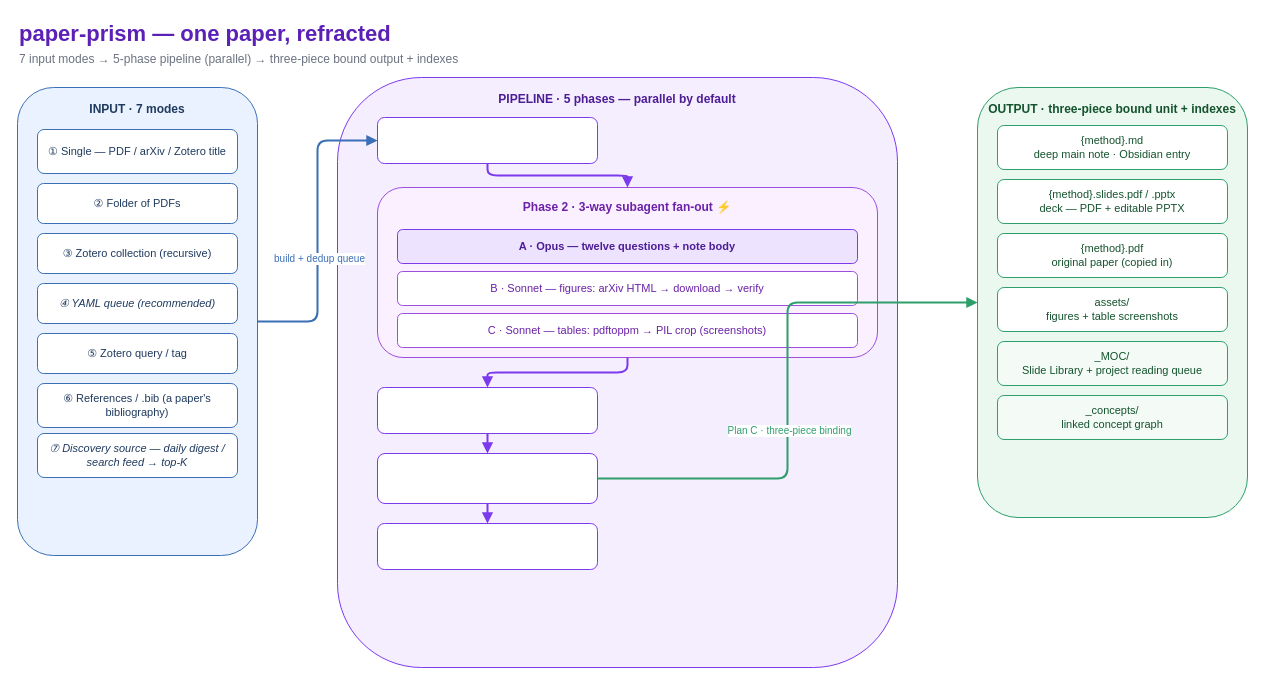
Image size: 1265x685. Some labels were removed from this diagram. The centre of each missing label's shape, as x and y in pixels:
"1 · Setup method · arxiv_id · paths · mkdir" goes at [487,140].
"3 · Synthesize fill note + slide templates" goes at [487,410].
"4 · Render + bind ⚡ marp → PDF + PPTX · resources · MOCs" goes at [487,478].
"5 · Report verify · cleanup" goes at [487,546].
